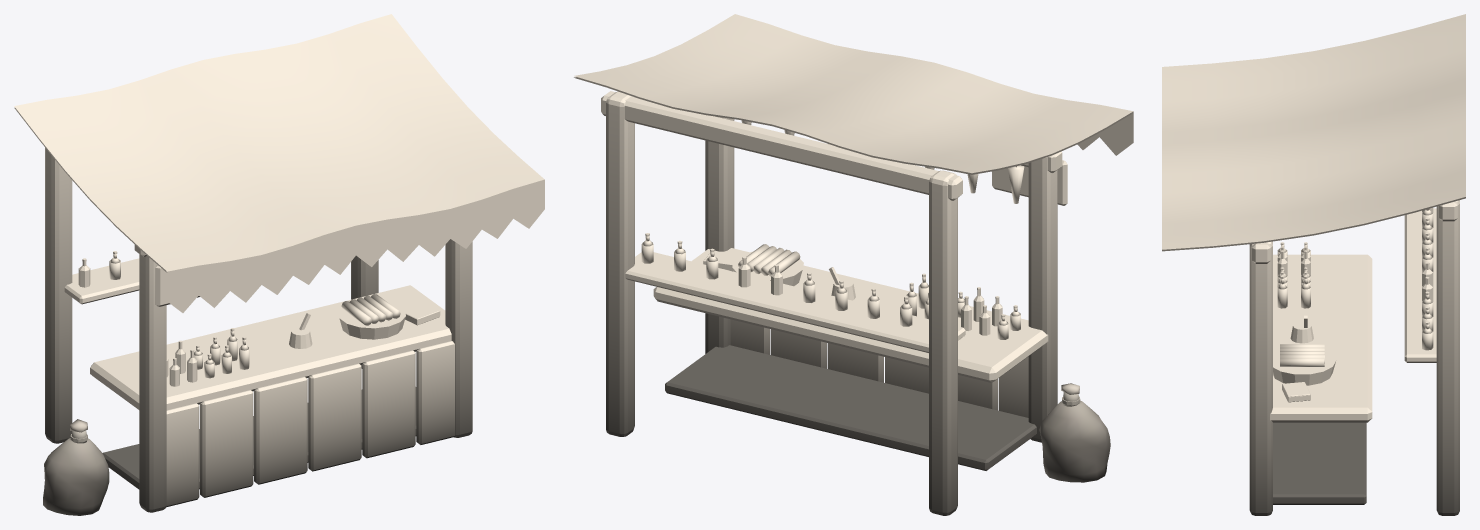
The model's file is SM_VK_MarketStall_Apothecary.fbx.
3 renders of one model, left to right at view 1: azimuth 30°, elevation 25°; view 2: azimuth 150°, elevation 25°; view 3: azimuth 270°, elevation 25°, orthographic. The views are drawn at different scales.
Visible parts, largest first — view 1: SM_VK_MarketStall_Apothecary.001; view 2: SM_VK_MarketStall_Apothecary.001; view 3: SM_VK_MarketStall_Apothecary.001.
Part boxes in pixels (x1,y1,x2,y2): SM_VK_MarketStall_Apothecary.001: (14, 14, 544, 515); SM_VK_MarketStall_Apothecary.001: (574, 14, 1133, 515); SM_VK_MarketStall_Apothecary.001: (1162, 14, 1465, 515).
Size of the model in its own units: 4.17 by 3.17 by 2.6.
